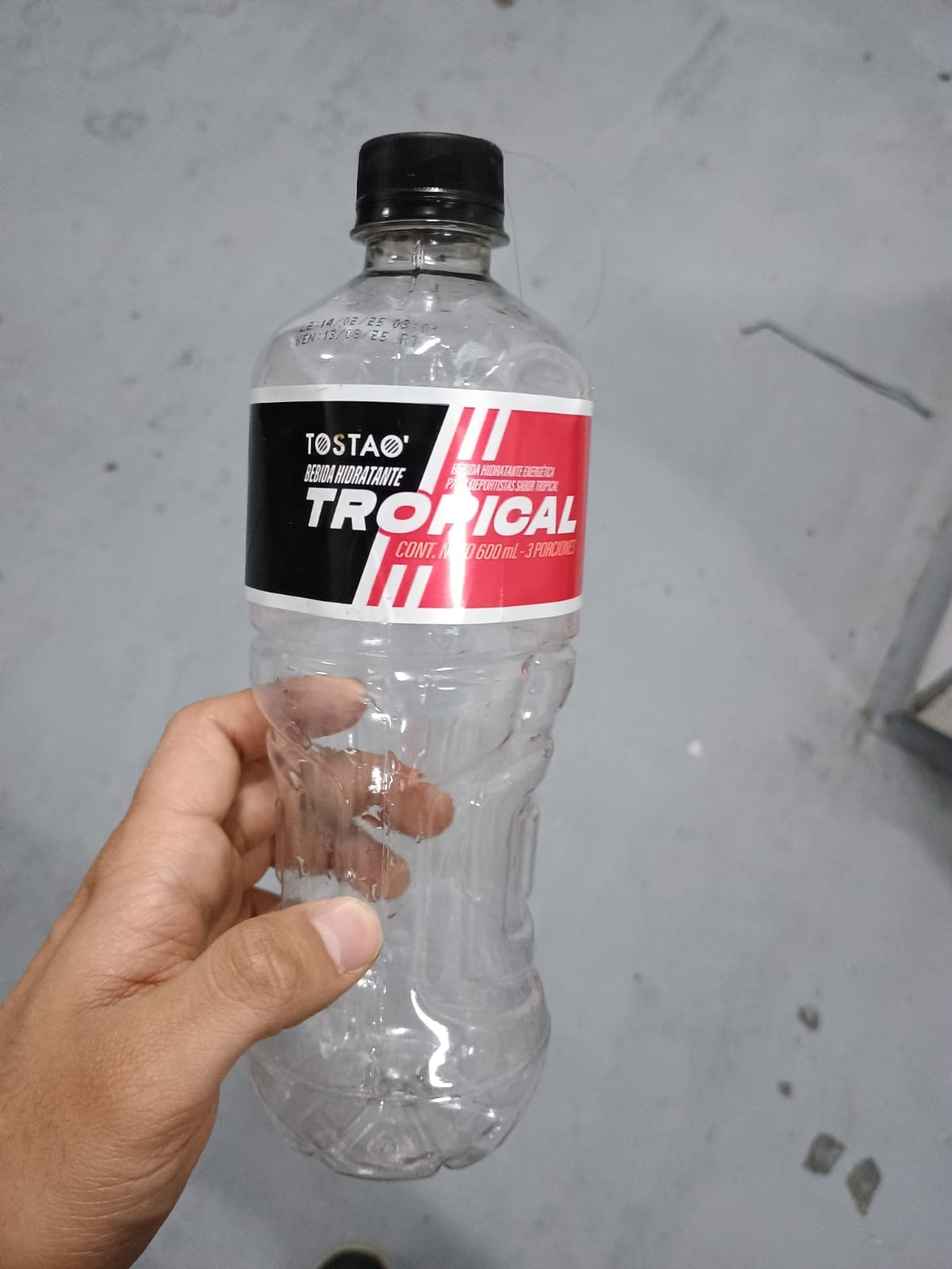Plastico: (243, 131, 595, 1182)
